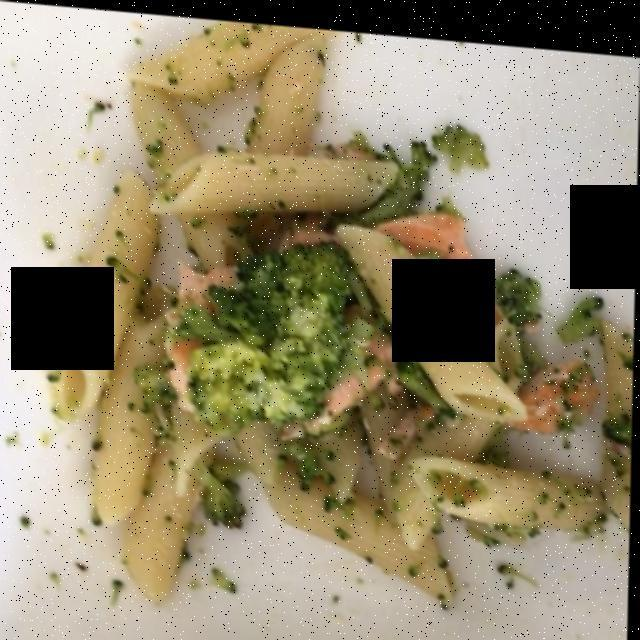broccoli: (162, 106, 499, 442)
pasta: (49, 53, 610, 585)
salmon: (169, 235, 390, 432), (349, 201, 499, 314)
